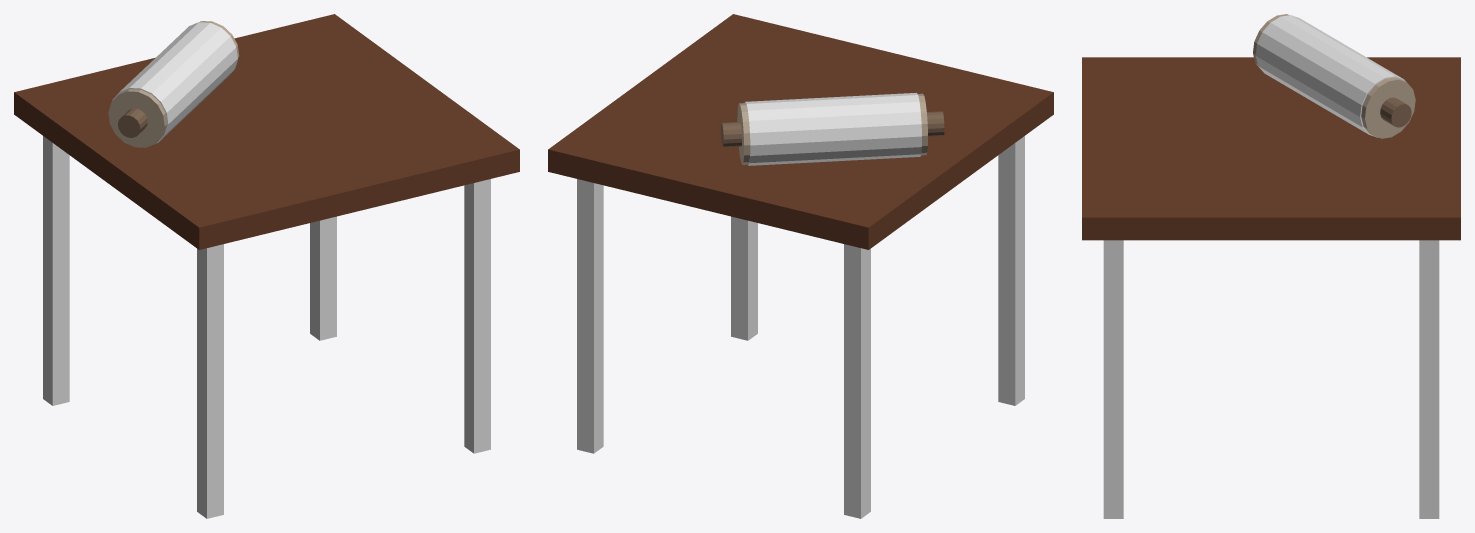
The model's file is Scroll on table.glb.
3 views of the same model, side by side, from view 1: azimuth 30°, elevation 25°; view 2: azimuth 150°, elevation 25°; view 3: azimuth 270°, elevation 25° (orthographic). The views are drawn at different scales.
Visible parts, largest first — view 1: Cube, Cylinder.002; view 2: Cube, Cylinder.002; view 3: Cube, Cylinder.002.
Part boxes in pixels (x1,y1,x2,y2): Cube: [14, 14, 519, 518]; Cylinder.002: [108, 21, 239, 147]; Cube: [548, 14, 1053, 518]; Cylinder.002: [721, 92, 944, 165]; Cube: [1082, 57, 1460, 518]; Cylinder.002: [1253, 14, 1415, 138].
Bounding box in the file's own units: 6 × 6.48 × 6.
